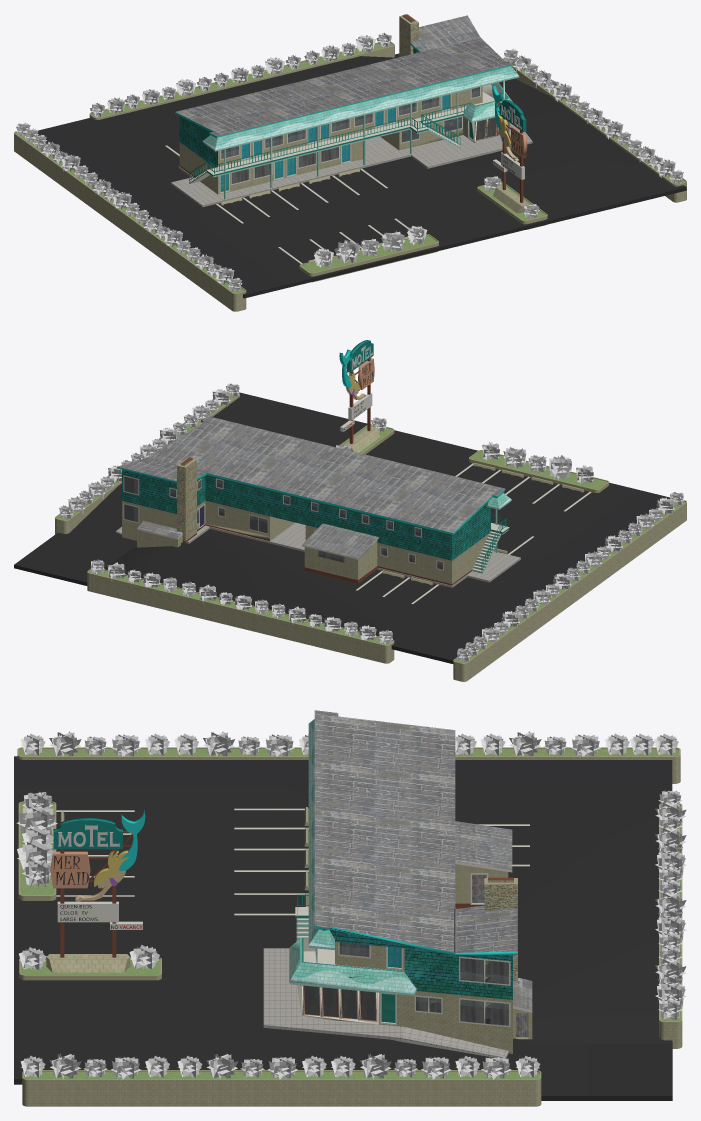
Rendered from motel.glb.
3 renders of one model, top to bottom at view 1: azimuth 30°, elevation 25°; view 2: azimuth 150°, elevation 25°; view 3: azimuth 270°, elevation 25°, orthographic. The views are drawn at different scales.
Visible parts, largest first — view 1: motel; view 2: motel; view 3: motel.
Part boxes in pixels (bbox=[...]): motel: bbox=[14, 14, 686, 311]; motel: bbox=[14, 340, 686, 681]; motel: bbox=[14, 710, 686, 1106].
Bounding box in the file's own units: 50.33 × 12.83 × 42.64.
Materials: 13 (12 with a texture image).
